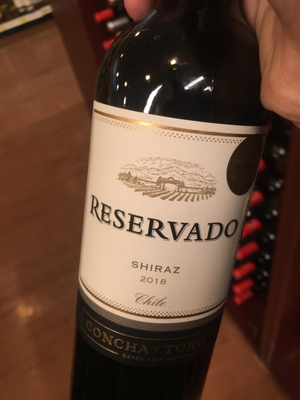reservado shiraz: (78, 24, 262, 392)
